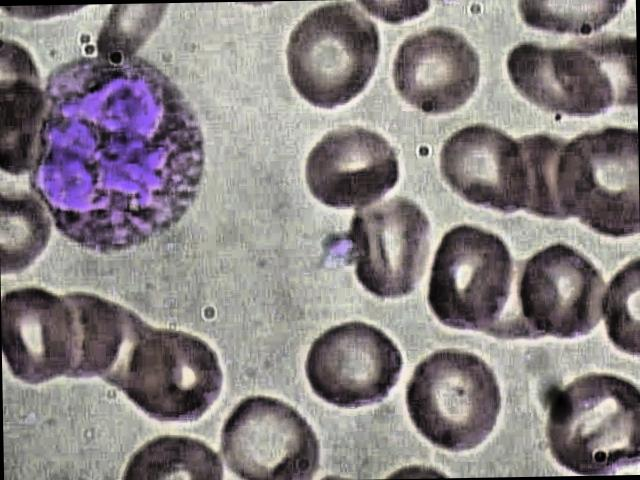Platelets: (322, 228, 358, 271)
RBC: (394, 340, 511, 462), (281, 0, 384, 114), (414, 224, 520, 332), (122, 322, 226, 432), (294, 312, 405, 414), (294, 116, 409, 213), (537, 368, 640, 475), (205, 391, 325, 480), (434, 121, 539, 220), (382, 24, 490, 119), (504, 35, 620, 122), (518, 239, 615, 342), (2, 280, 88, 390), (344, 196, 430, 302)
WBC: (20, 42, 224, 258)
